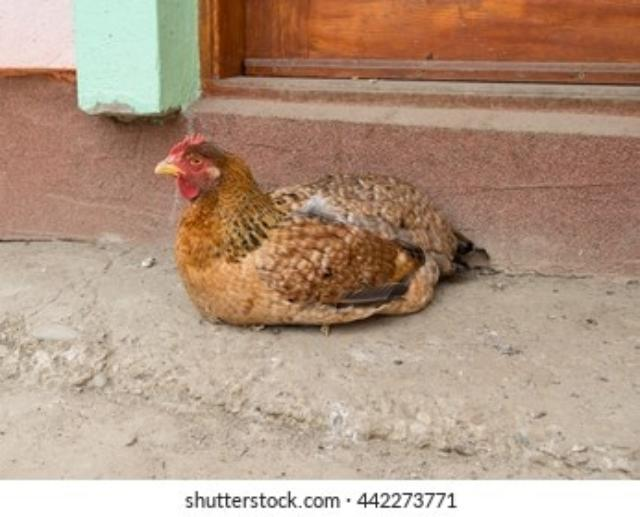Chicken: (152, 132, 459, 336)
